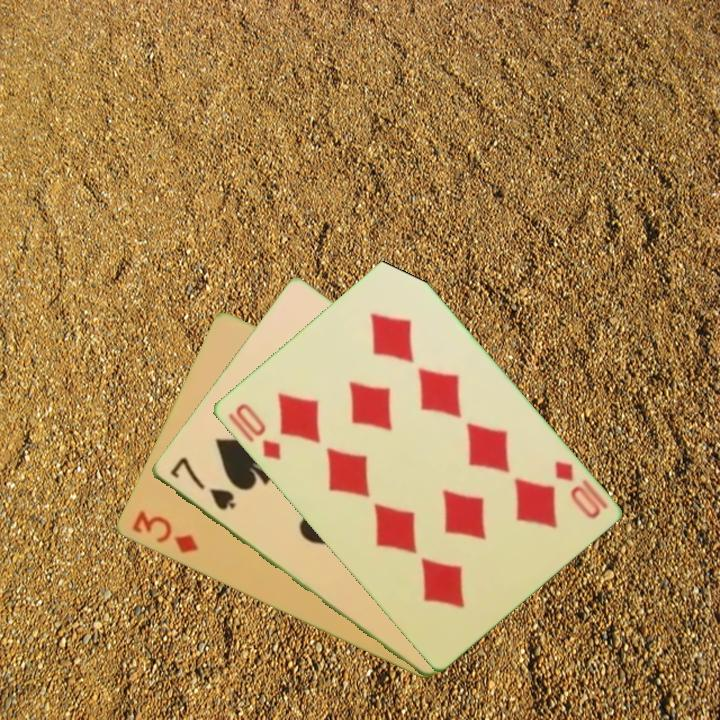10d: (223, 399, 284, 463), (550, 457, 603, 522)
3d: (128, 507, 201, 557)
7s: (165, 453, 238, 514)
